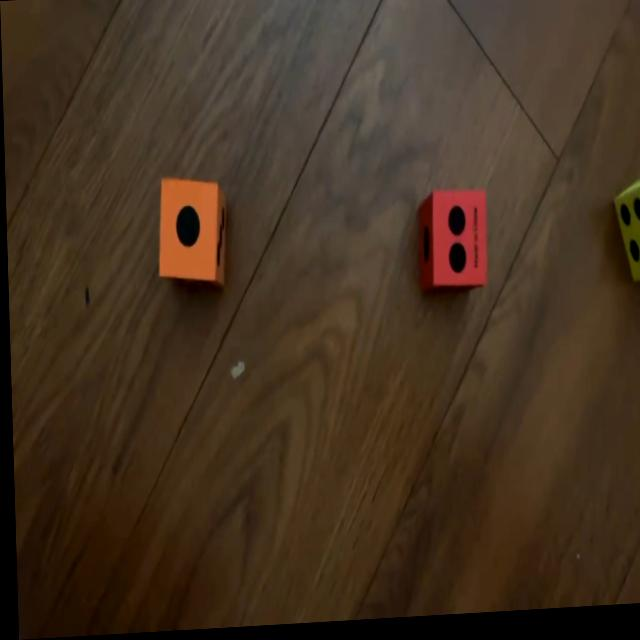red_block: (416, 195, 488, 294)
